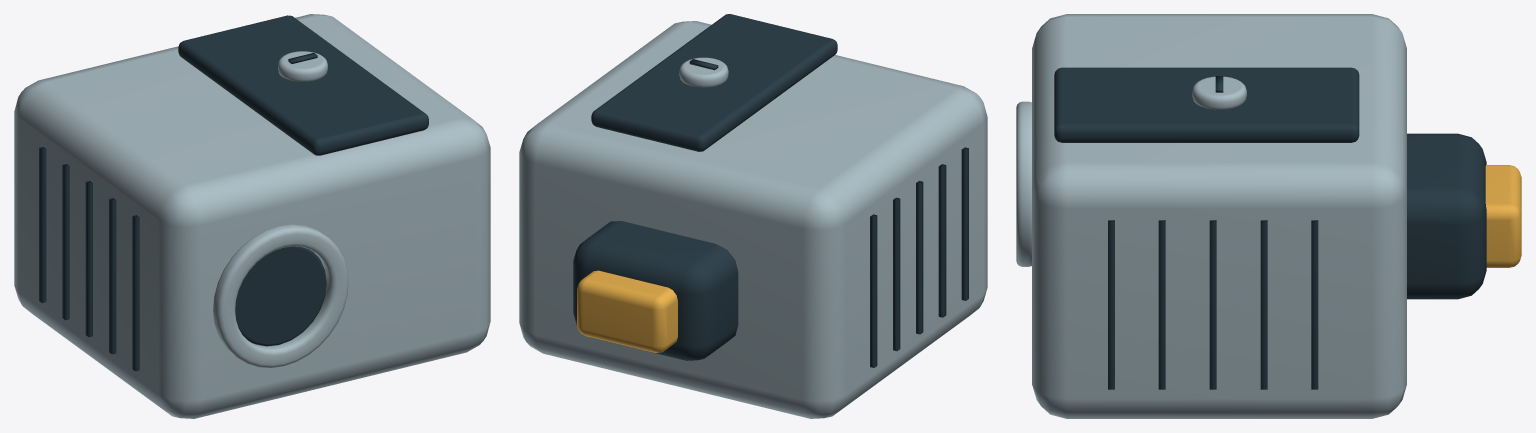
File: part_sharpener.glb
3 views of the same model, side by side, from view 1: azimuth 30°, elevation 25°; view 2: azimuth 150°, elevation 25°; view 3: azimuth 270°, elevation 25° (orthographic). The views are drawn at different scales.
Visible parts, largest first — view 1: Machined sharpener case, Angled cutting plate, Pencil entry rim, Pencil entry shadow, Grip groove.004, Grip groove, Grip groove.002, Grip groove.001, Grip groove.003, Blade screw; view 2: Machined sharpener case, Angled cutting plate, Universal rubber mounting pad.013, Snap-in brass tongue.013, Grip groove.003, Grip groove, Grip groove.004, Grip groove.001, Grip groove.002, Blade screw; view 3: Machined sharpener case, Angled cutting plate, Universal rubber mounting pad.013, Snap-in brass tongue.013, Pencil entry rim, Blade screw, Grip groove.005, Grip groove.006, Grip groove.007, Grip groove.008, Grip groove.009.
Boxes of the visible parts, left/top/right/bottom form: Machined sharpener case: left=14, top=14, right=490, bottom=418; Angled cutting plate: left=178, top=15, right=428, bottom=155; Pencil entry rim: left=213, top=224, right=348, bottom=367; Pencil entry shadow: left=235, top=246, right=326, bottom=346; Grip groove.004: left=132, top=215, right=139, bottom=371; Grip groove: left=39, top=147, right=46, bottom=303; Grip groove.002: left=85, top=181, right=92, bottom=337; Grip groove.001: left=62, top=164, right=69, bottom=320; Grip groove.003: left=109, top=198, right=116, bottom=354; Blade screw: left=278, top=51, right=327, bottom=81; Machined sharpener case: left=519, top=21, right=987, bottom=418; Angled cutting plate: left=591, top=14, right=837, bottom=151; Universal rubber mounting pad.013: left=573, top=221, right=738, bottom=360; Snap-in brass tongue.013: left=577, top=270, right=677, bottom=352; Grip groove.003: left=938, top=164, right=946, bottom=317; Grip groove: left=870, top=214, right=877, bottom=367; Grip groove.004: left=961, top=147, right=968, bottom=300; Grip groove.001: left=893, top=197, right=900, bottom=351; Grip groove.002: left=916, top=181, right=923, bottom=334; Blade screw: left=679, top=57, right=728, bottom=87; Machined sharpener case: left=1032, top=14, right=1406, bottom=418; Angled cutting plate: left=1054, top=67, right=1359, bottom=142; Universal rubber mounting pad.013: left=1407, top=133, right=1486, bottom=299; Snap-in brass tongue.013: left=1485, top=165, right=1521, bottom=267; Pencil entry rim: left=1016, top=101, right=1031, bottom=266; Blade screw: left=1192, top=76, right=1246, bottom=109; Grip groove.005: left=1311, top=220, right=1318, bottom=389; Grip groove.006: left=1260, top=220, right=1267, bottom=389; Grip groove.007: left=1209, top=220, right=1216, bottom=389; Grip groove.008: left=1158, top=220, right=1165, bottom=389; Grip groove.009: left=1108, top=220, right=1114, bottom=389.
Bounding box in the file's own units: 0.0133 × 0.00997 × 0.0159.
